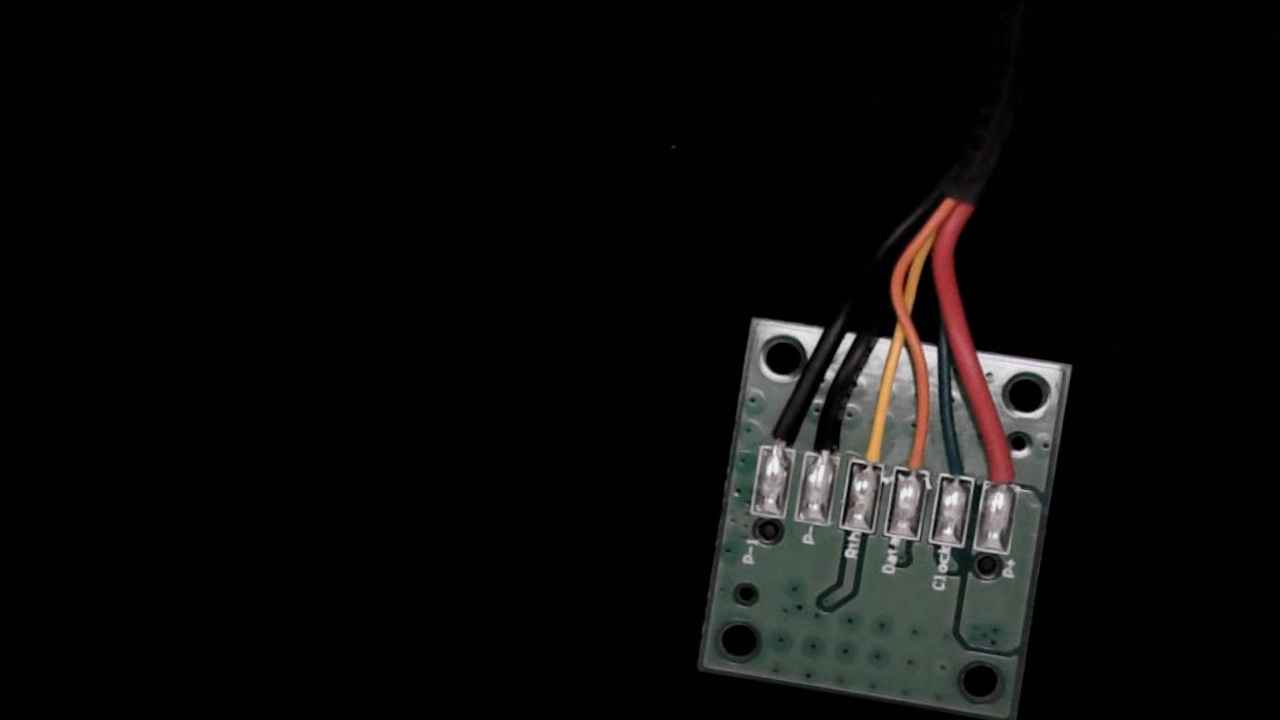Black: (800, 391, 856, 480)
Black1: (757, 400, 805, 472)
Green: (931, 425, 985, 498)
Orange: (892, 420, 940, 491)
Red: (978, 433, 1028, 505)
Yellow: (846, 413, 896, 484)
